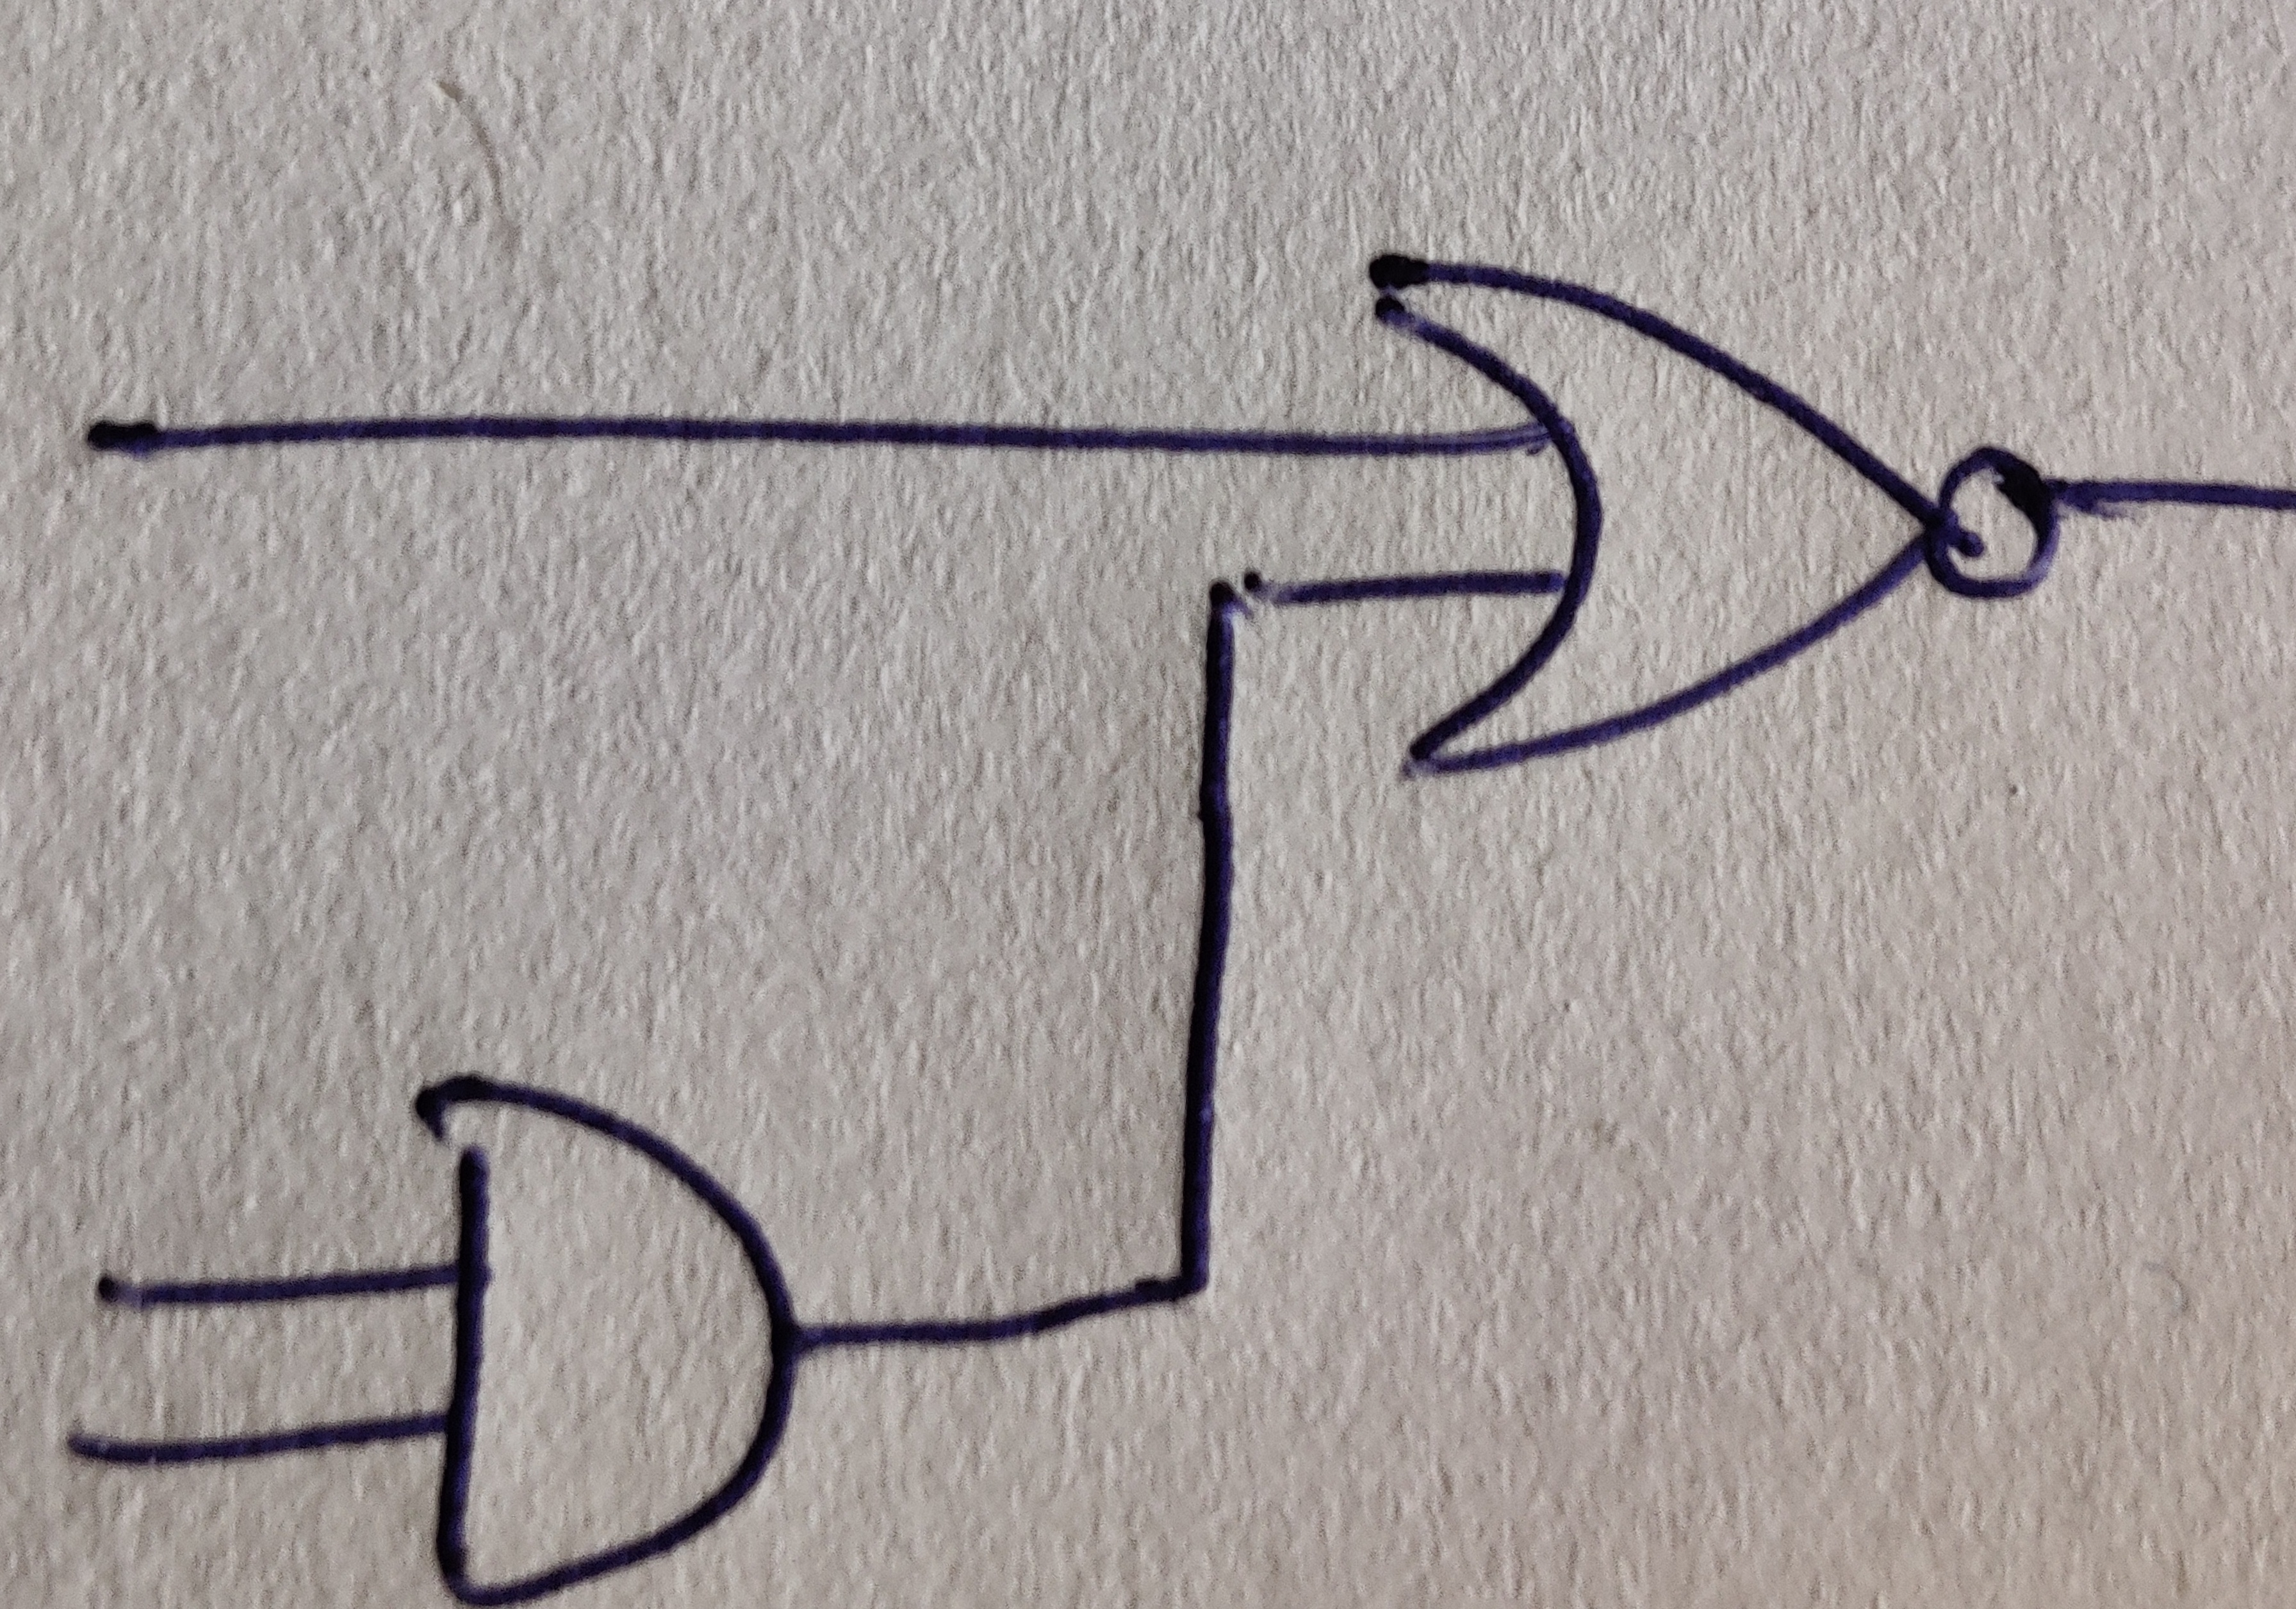and: (413, 1073, 801, 1609)
not: (1931, 445, 2059, 602)
or: (1368, 251, 1931, 778)
